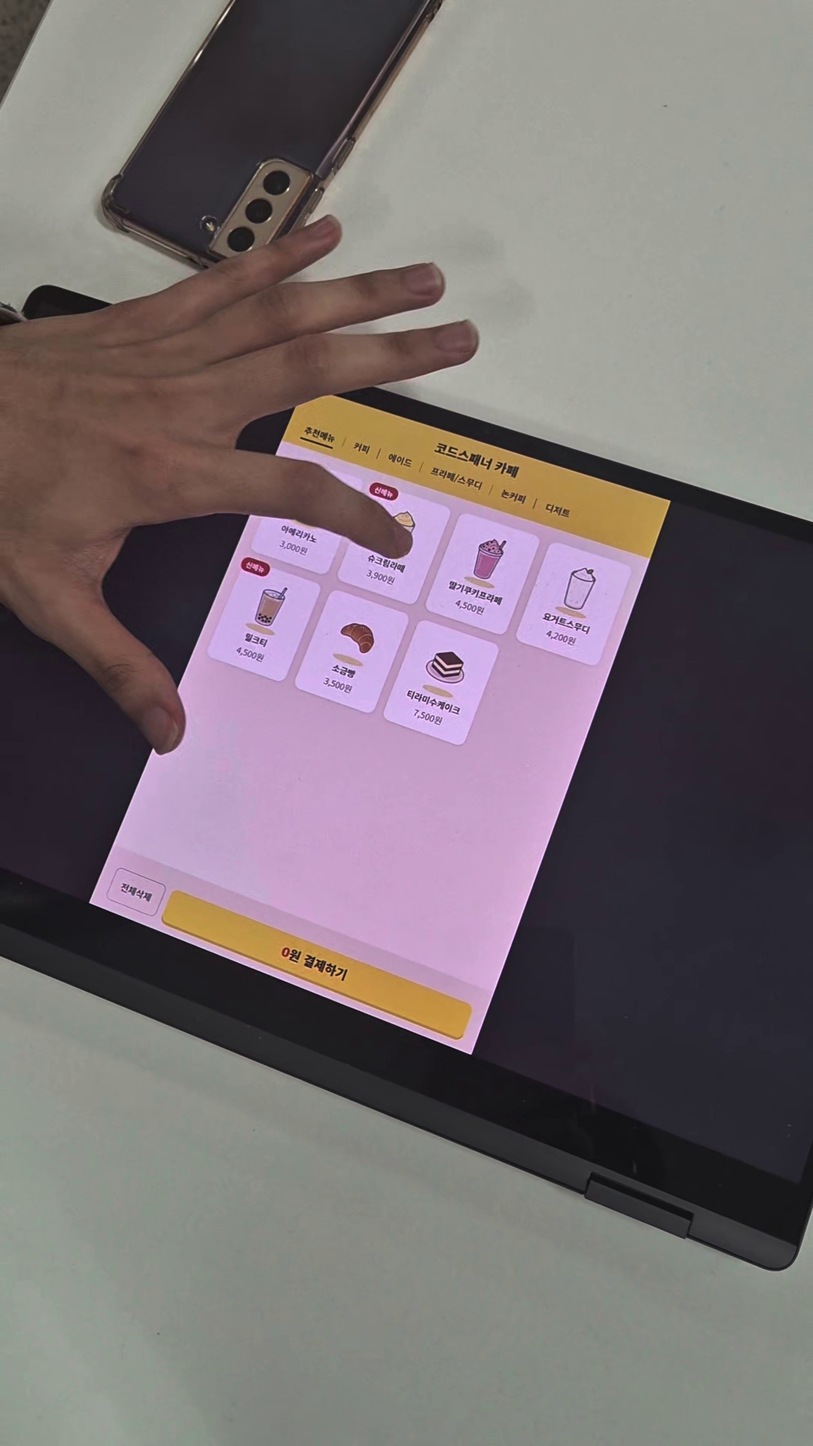action_button: (153, 888, 475, 1043)
category_tab: (426, 461, 490, 498), (292, 416, 347, 454), (538, 496, 579, 527), (495, 482, 533, 511), (382, 447, 418, 471), (347, 436, 379, 461)
menu_back: (195, 549, 328, 690), (375, 614, 507, 756), (284, 583, 414, 726), (330, 474, 457, 614), (506, 537, 636, 673), (419, 503, 544, 642)
menu_name: (441, 574, 511, 613), (398, 683, 468, 721), (540, 608, 597, 639), (362, 548, 411, 580), (322, 655, 366, 685), (236, 626, 278, 654)
menu_price: (100, 864, 168, 919), (225, 640, 274, 671), (540, 622, 585, 652), (446, 593, 493, 620), (273, 536, 315, 564), (356, 565, 401, 591), (315, 673, 356, 699), (407, 706, 449, 731)
